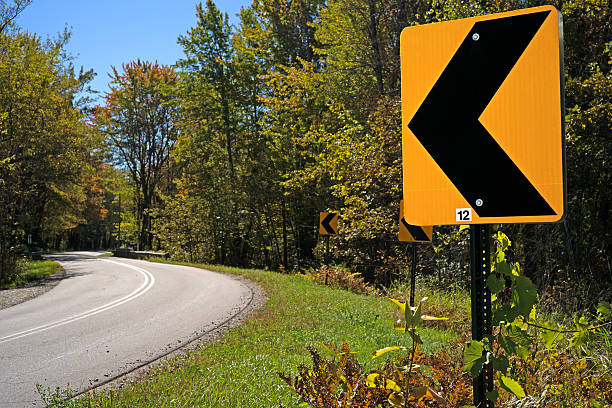left turn: (403, 21, 564, 220), (400, 202, 433, 242), (319, 212, 338, 234)
